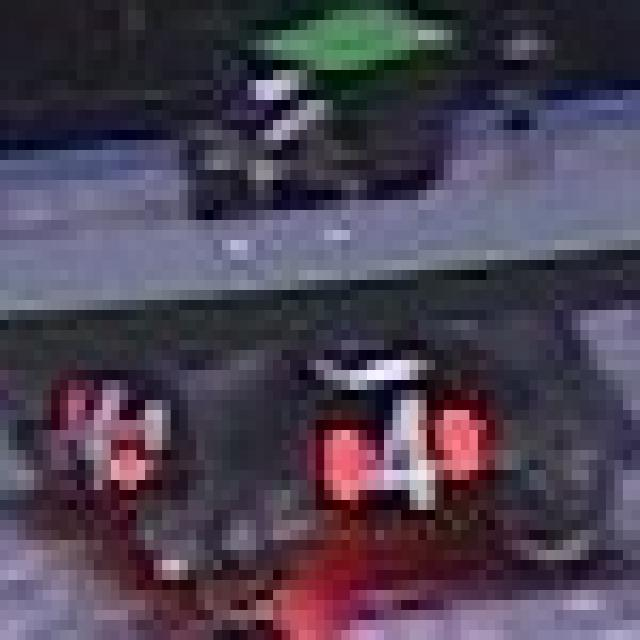R4: (316, 390, 495, 520), (60, 370, 170, 500)
